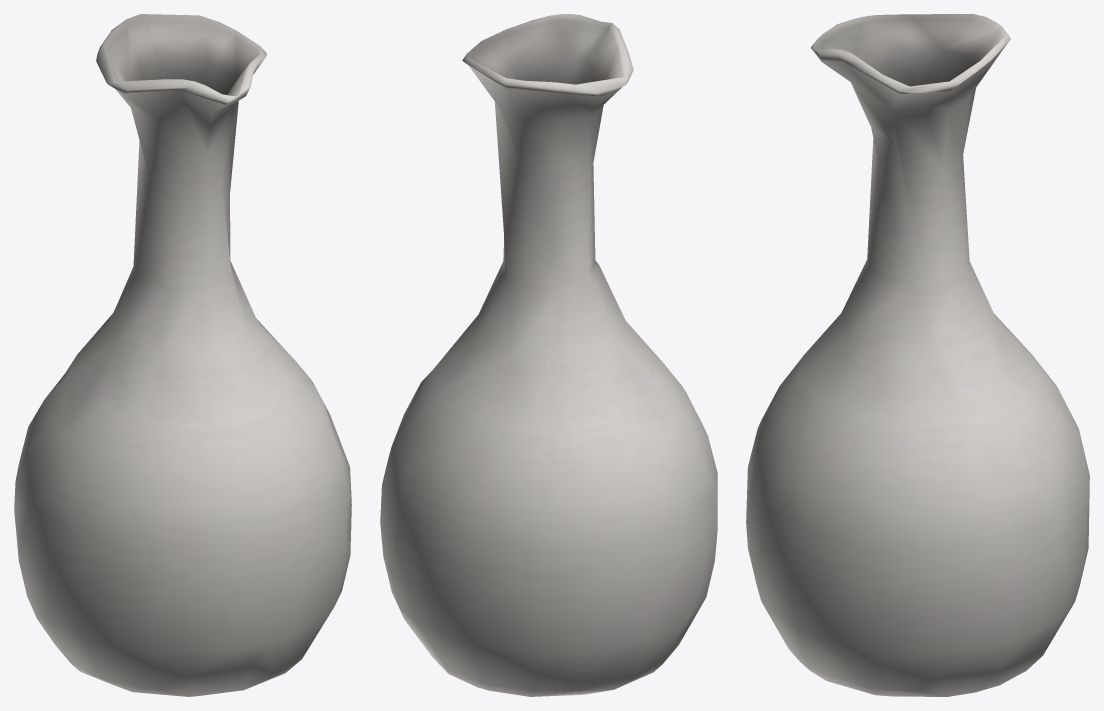
File: ceramic_vase_01.glb
The picture shows the model from 3 angles, left to right: view 1: azimuth 30°, elevation 25°; view 2: azimuth 150°, elevation 25°; view 3: azimuth 270°, elevation 25°; orthographic projection.
Parts seen in each view (by area): view 1: ceramic_vase_01; view 2: ceramic_vase_01; view 3: ceramic_vase_01.
Boxes of the visible parts, left/top/right/bottom form: ceramic_vase_01: left=14, top=14, right=351, bottom=696; ceramic_vase_01: left=380, top=14, right=717, bottom=696; ceramic_vase_01: left=746, top=14, right=1089, bottom=696.
Bounding box in the file's own units: 0.2022 × 0.3998 × 0.2018.
Materials: 1 (1 with a texture image).
